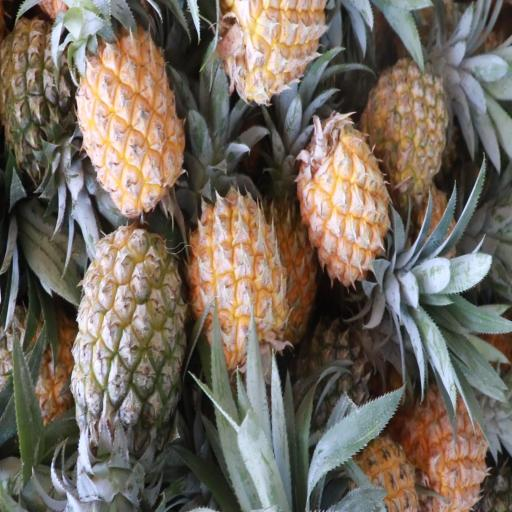------------------------------: (75, 229, 180, 449), (3, 305, 83, 445), (365, 65, 447, 200)
Pineapple - v8 v1: (80, 27, 184, 211), (190, 196, 284, 372), (301, 118, 387, 288), (408, 375, 488, 512), (225, 2, 323, 102)
